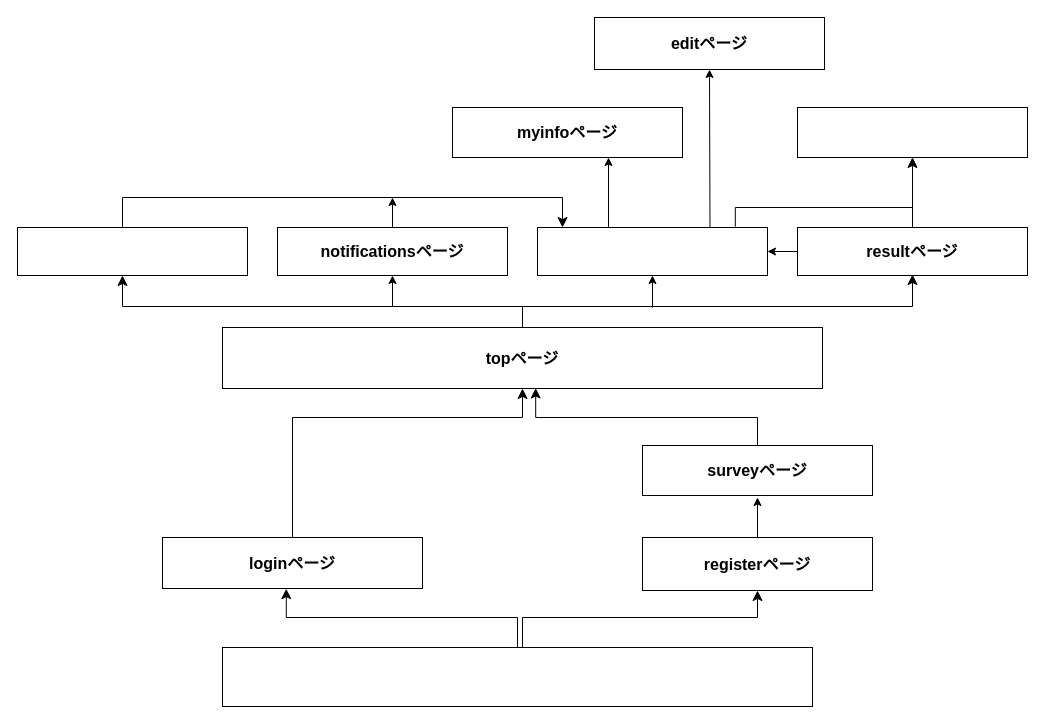
The diagram is 1045 pixels wide and 724 high, and some of its shapes have lost their labels. The shapes that lost their labels are listed below. From the top down, each one's centre as x and y in pixels, then its label:
point 912,132: postページ
point 132,251: createページ
point 652,251: mypageページ
point 517,676: welcomeページ
